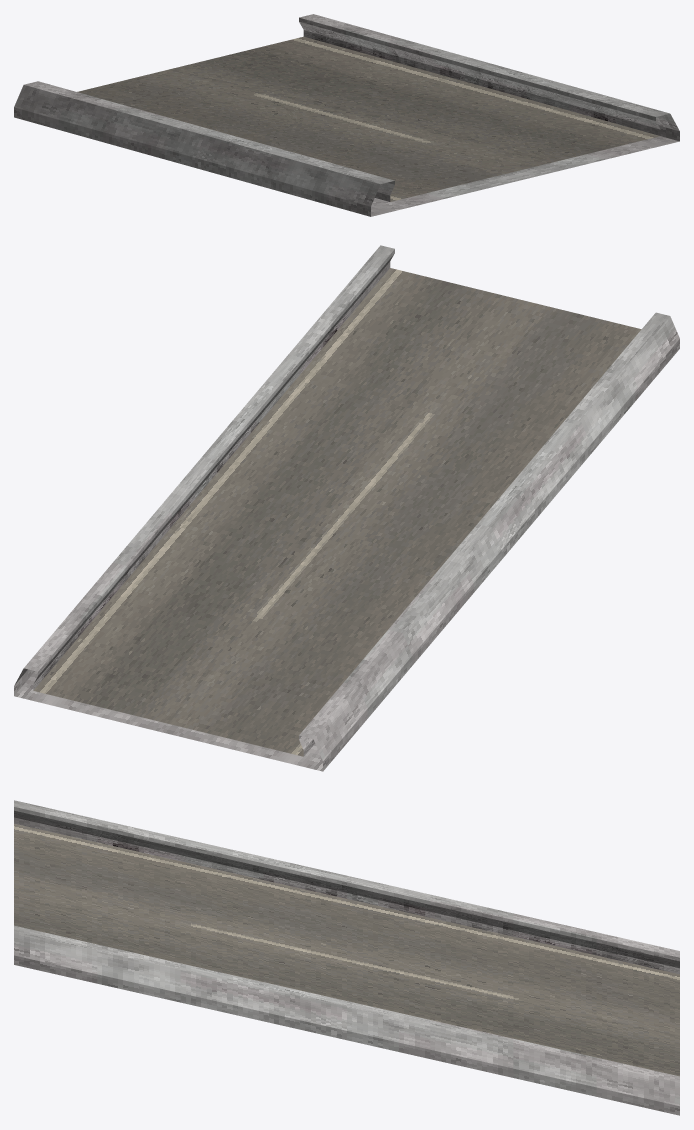
File: road-Straight-BiSlopeDown-BiSlopeDown-Down2-Center-Size2.glb
The picture shows the model from 3 angles, top to bottom: view 1: azimuth 30°, elevation 25°; view 2: azimuth 150°, elevation 25°; view 3: azimuth 270°, elevation 25°; orthographic projection. The views are drawn at different scales.
Visible parts, largest first — view 1: road-Straight-BiSlopeDown-BiSlopeDown-Down2-Center-Size2; view 2: road-Straight-BiSlopeDown-BiSlopeDown-Down2-Center-Size2; view 3: road-Straight-BiSlopeDown-BiSlopeDown-Down2-Center-Size2.
Boxes of the visible parts, x1,y1,x2,y2 form: road-Straight-BiSlopeDown-BiSlopeDown-Down2-Center-Size2: (14,14,679,216); road-Straight-BiSlopeDown-BiSlopeDown-Down2-Center-Size2: (14,245,679,771); road-Straight-BiSlopeDown-BiSlopeDown-Down2-Center-Size2: (14,800,679,1115).
Size of the model in its own units: 1 by 0.5938 by 2.
2 materials, 2 textured.
